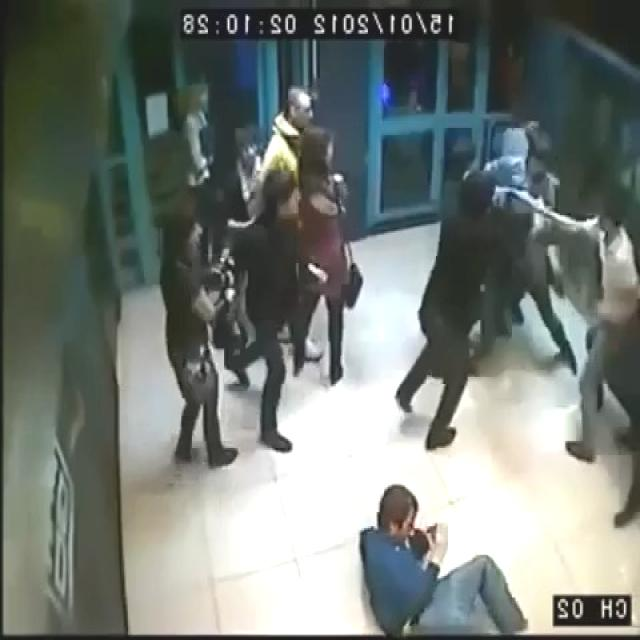fight: (425, 123, 626, 392), (434, 172, 628, 352)
